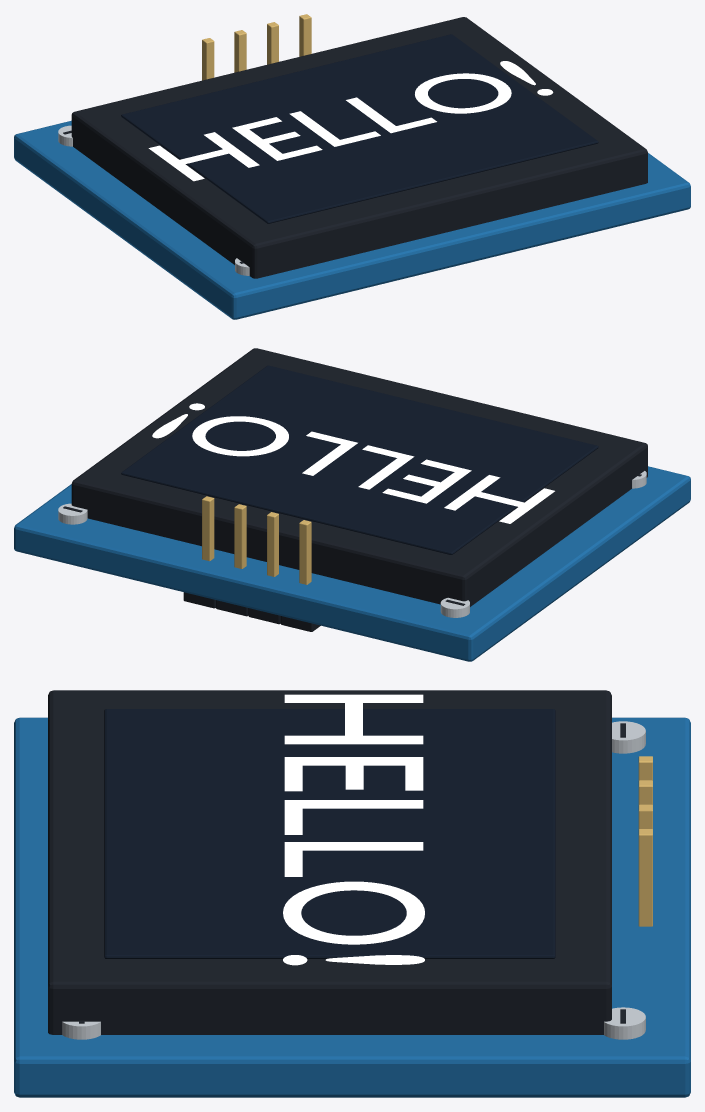
Rendered from oled-display.glb.
The picture shows the model from 3 angles, top to bottom: view 1: azimuth 30°, elevation 25°; view 2: azimuth 150°, elevation 25°; view 3: azimuth 270°, elevation 25°; orthographic projection. The views are drawn at different scales.
Parts seen in each view (by area): view 1: Static body • screen, Static body • black, Static body • blue, Static body • light, Static body • gold; view 2: Static body • screen, Static body • black, Static body • blue, Static body • light, Static body • gold, Static body • silver; view 3: Static body • screen, Static body • black, Static body • blue, Static body • light, Static body • silver, Static body • gold.
Part boxes in pixels (x1,y1,x2,y2): Static body • screen: [121, 34, 598, 223]; Static body • black: [63, 17, 647, 278]; Static body • blue: [14, 120, 690, 319]; Static body • light: [148, 61, 553, 181]; Static body • gold: [202, 14, 311, 80]; Static body • screen: [121, 365, 598, 554]; Static body • black: [63, 348, 647, 631]; Static body • blue: [14, 466, 690, 661]; Static body • light: [152, 403, 554, 523]; Static body • gold: [202, 496, 311, 584]; Static body • silver: [58, 471, 646, 617]; Static body • screen: [104, 709, 555, 958]; Static body • black: [48, 690, 625, 1034]; Static body • blue: [14, 717, 690, 1097]; Static body • light: [283, 694, 424, 965]; Static body • silver: [62, 721, 645, 1039]; Static body • gold: [638, 756, 652, 926].
Size of the model in its own units: 36 by 7.5 by 30.
